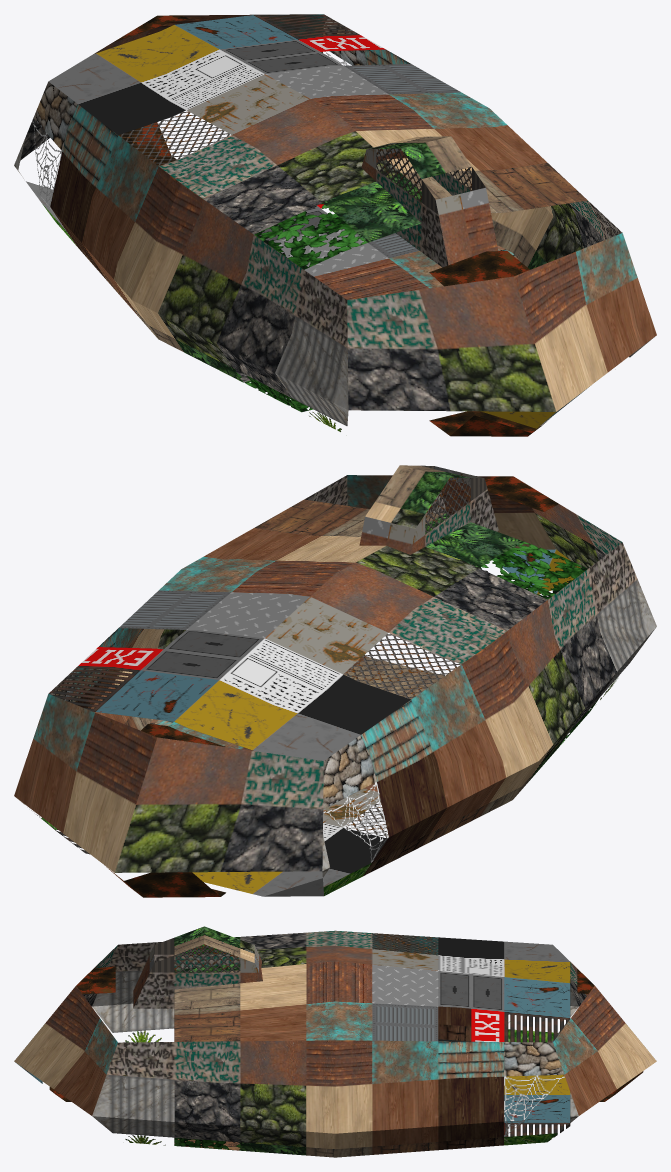
The model's file is OfficeMouse.fbx.
3 views of the same model, one above another, from view 1: azimuth 30°, elevation 25°; view 2: azimuth 150°, elevation 25°; view 3: azimuth 270°, elevation 25° (orthographic). The views are drawn at different scales.
Parts seen in each view (by area): view 1: Mouse; view 2: Mouse; view 3: Mouse.
Part boxes in pixels (bbox=[...]): Mouse: bbox=[14, 14, 656, 436]; Mouse: bbox=[14, 465, 656, 897]; Mouse: bbox=[14, 926, 656, 1157].
Size of the model in its own units: 0.1271 by 0.0654 by 0.2388.
